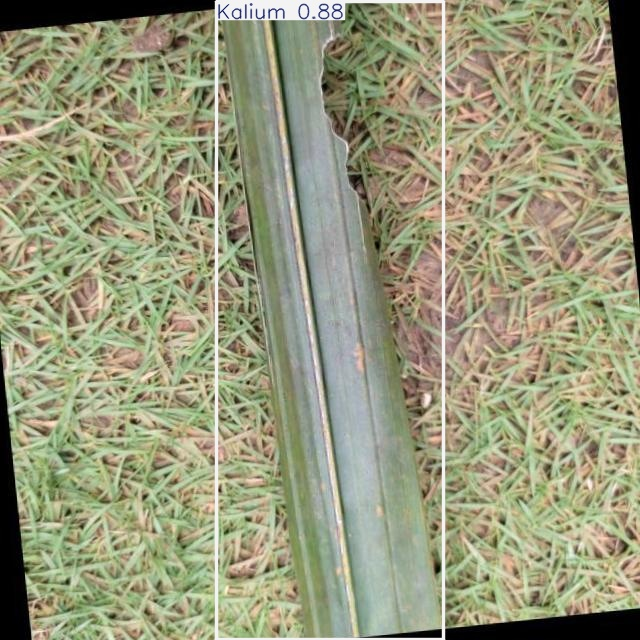Kalium: (216, 2, 443, 639)
